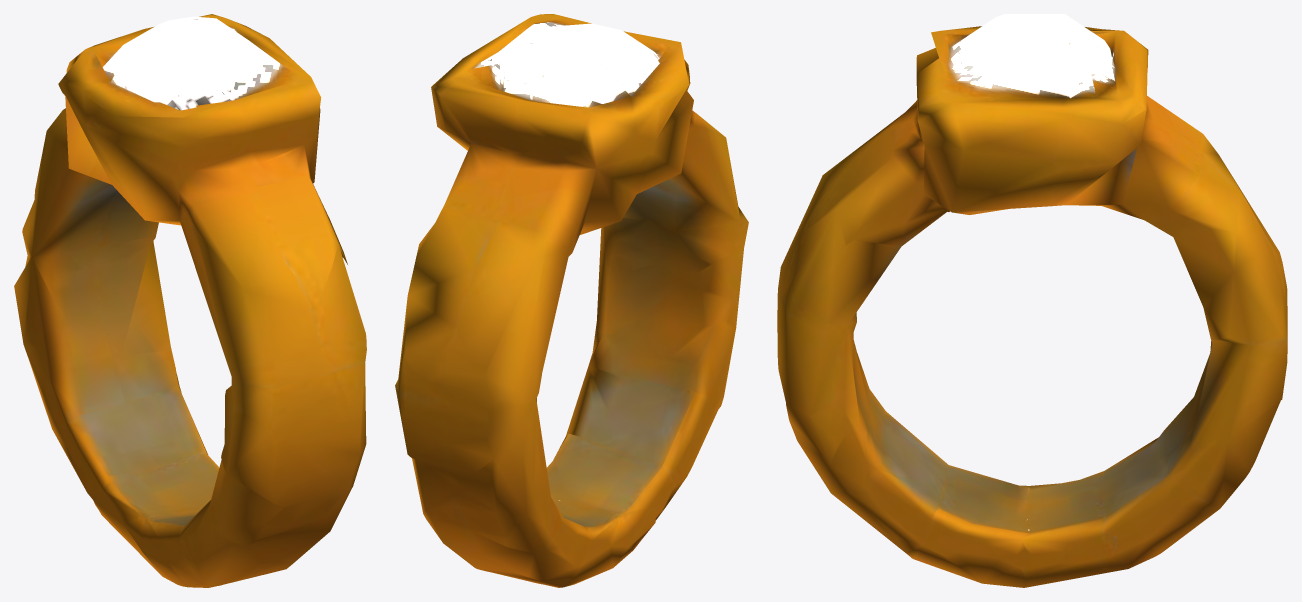
Rendered from loot_ring-BDGuTI2M.glb.
The picture shows the model from 3 angles, left to right: view 1: azimuth 30°, elevation 25°; view 2: azimuth 150°, elevation 25°; view 3: azimuth 270°, elevation 25°; orthographic projection. The views are drawn at different scales.
Parts seen in each view (by area): view 1: tripo_node_1cb2c8c3-eab4-416c-aec9-918725b80254; view 2: tripo_node_1cb2c8c3-eab4-416c-aec9-918725b80254; view 3: tripo_node_1cb2c8c3-eab4-416c-aec9-918725b80254.
Boxes of the visible parts, box(x1,y1,x2,y2) form: tripo_node_1cb2c8c3-eab4-416c-aec9-918725b80254: box(14, 14, 366, 587); tripo_node_1cb2c8c3-eab4-416c-aec9-918725b80254: box(395, 14, 748, 587); tripo_node_1cb2c8c3-eab4-416c-aec9-918725b80254: box(777, 14, 1287, 587).
Bounding box in the file's own units: 0.3865 × 1 × 0.8585.
1 material, 1 textured.
